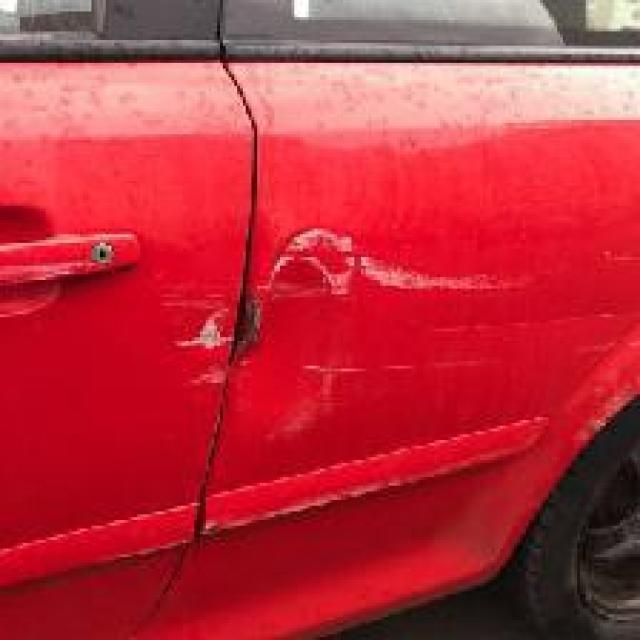damaged: (165, 217, 638, 440)
